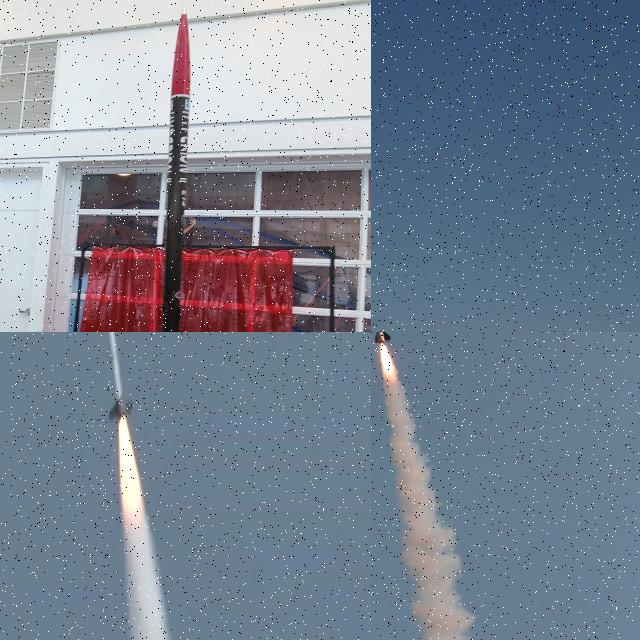Rocket: (161, 3, 190, 332), (106, 332, 133, 422)
